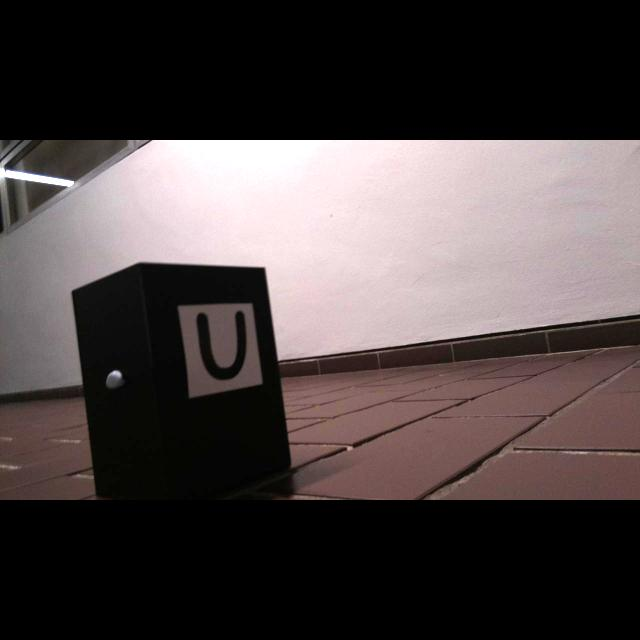U: (195, 308, 248, 381)
